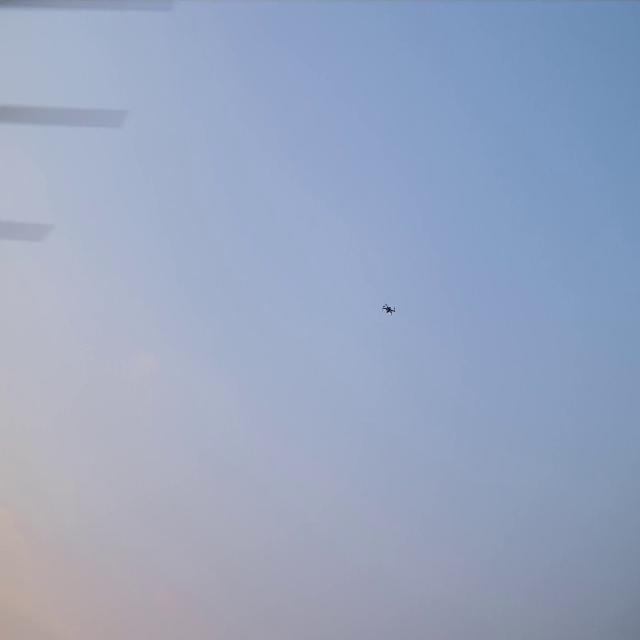UAV: (383, 304, 394, 313)
